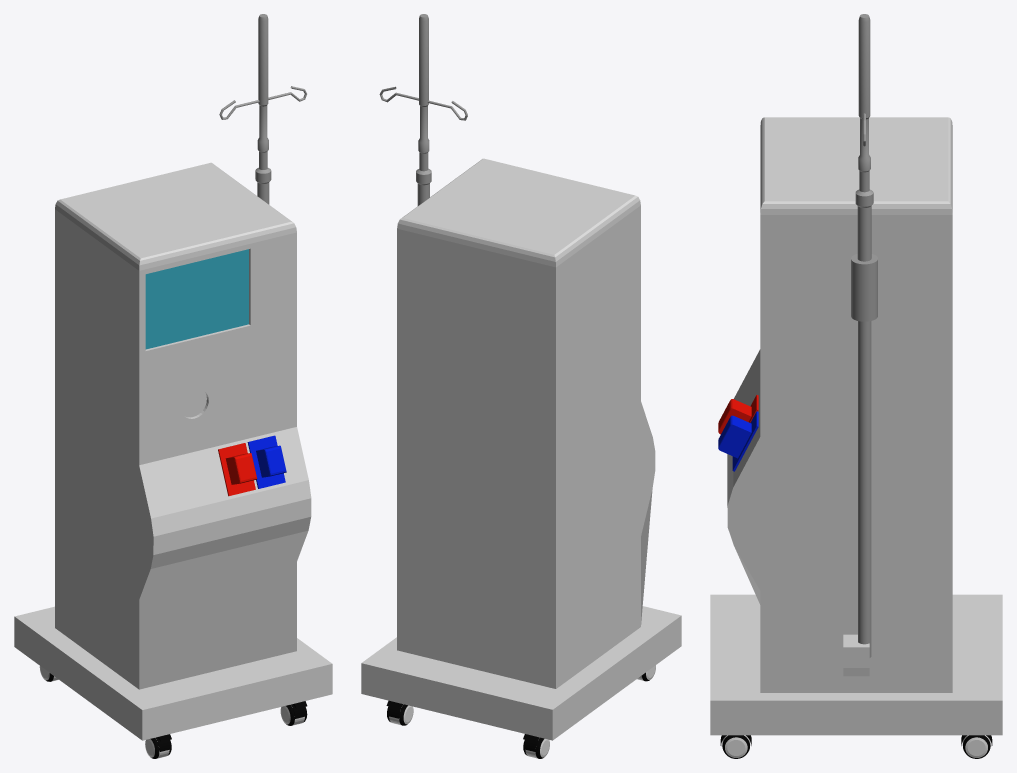
The model's file is BHA02.fbx.
The picture shows the model from 3 angles, left to right: view 1: azimuth 30°, elevation 25°; view 2: azimuth 150°, elevation 25°; view 3: azimuth 270°, elevation 25°; orthographic projection. The views are drawn at different scales.
Visible parts, largest first — view 1: BHA02; view 2: BHA02; view 3: BHA02.
Boxes of the visible parts, box(x1,y1,x2,y2) form: BHA02: box(14, 14, 332, 758); BHA02: box(361, 14, 681, 758); BHA02: box(710, 14, 1002, 758).
Bounding box in the file's own units: 65.97 × 179 × 63.
